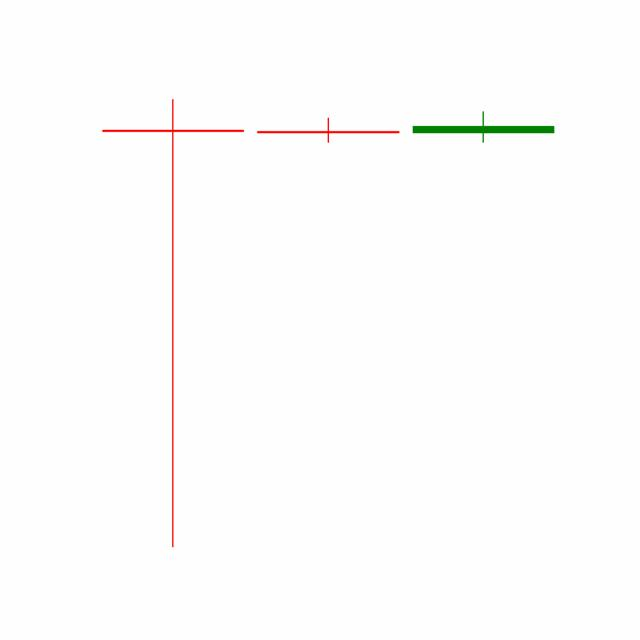Spinning Top: (249, 117, 406, 144)
